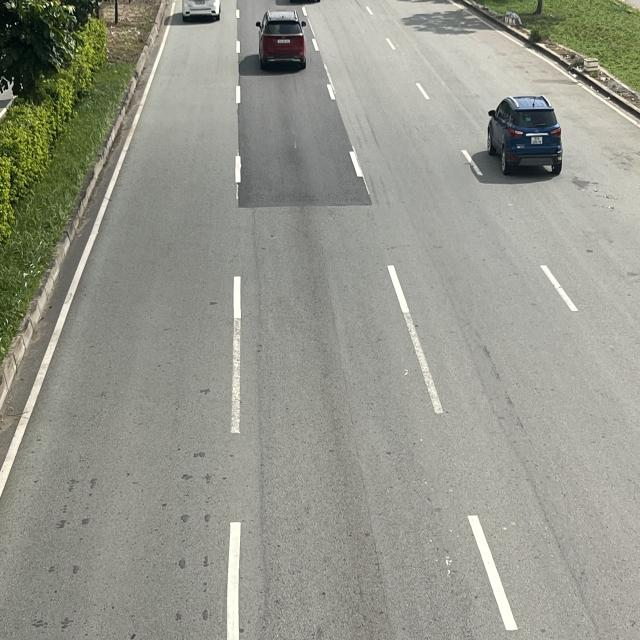car: (487, 94, 563, 173), (255, 7, 307, 68)
